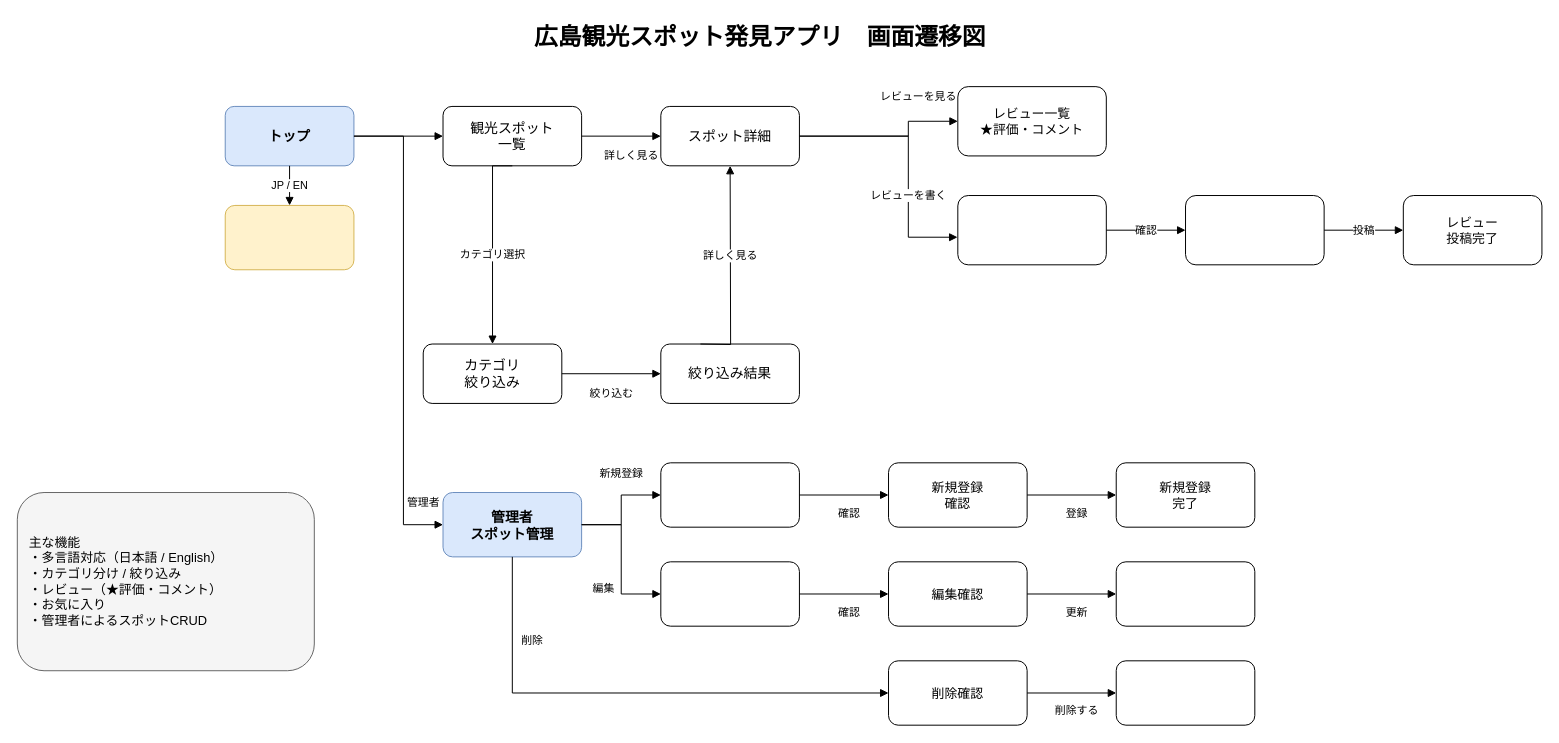
This 1559x743 diagram has some shape labels left out. Here are the shapes that lost their labels. From the top down, the centre of each, then its label:
At point (289, 237): "言語切替 日本語 / English".
At point (1031, 230): "レビュー投稿 ★・コメント入力".
At point (1254, 230): "レビュー 投稿確認".
At point (729, 494): "スポット 新規登録".
At point (729, 593): "スポット 編集".
At point (1185, 593): "編集完了".
At point (1185, 692): "削除完了".
